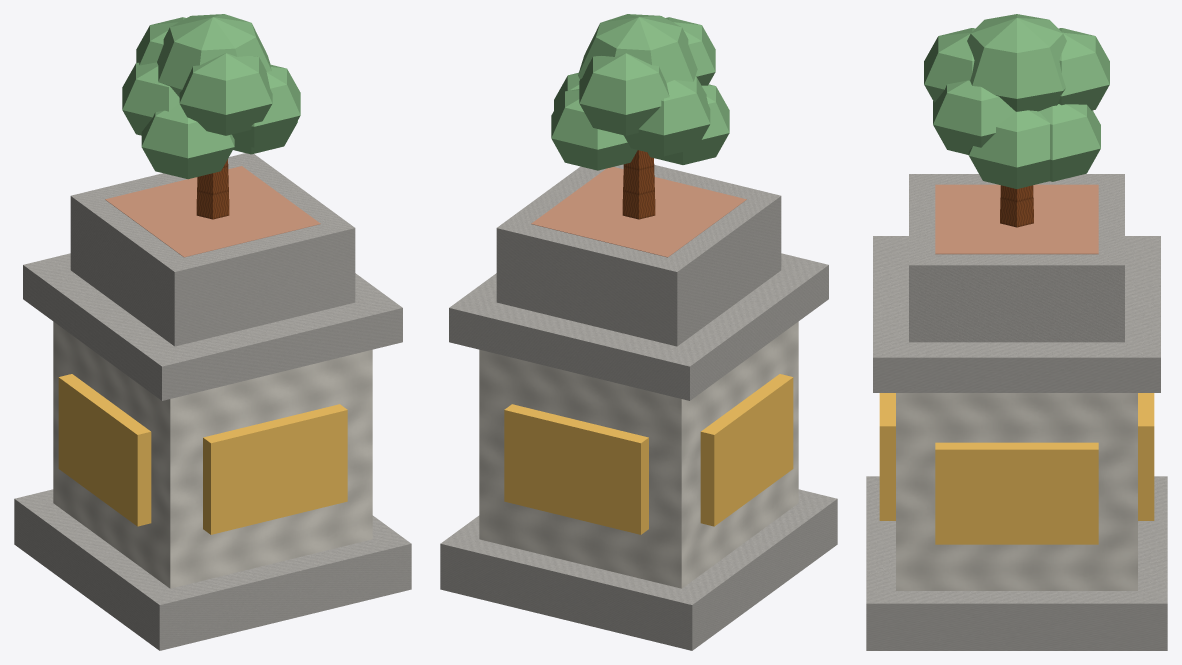
Rendered from indian-bazaar-street-and-temple-tulsi-planter-809b2ed0__36544.glb.
3 views of the same model, side by side, from view 1: azimuth 30°, elevation 25°; view 2: azimuth 150°, elevation 25°; view 3: azimuth 270°, elevation 25° (orthographic). The views are drawn at different scales.
Parts seen in each view (by area): view 1: tulsi-planter-stone, tulsi-planter-plaster, tulsi-planter-saffron, tulsi-planter-leaf, tulsi-planter-terracotta, tulsi-planter-timber; view 2: tulsi-planter-stone, tulsi-planter-plaster, tulsi-planter-saffron, tulsi-planter-leaf, tulsi-planter-terracotta, tulsi-planter-timber; view 3: tulsi-planter-stone, tulsi-planter-plaster, tulsi-planter-leaf, tulsi-planter-saffron, tulsi-planter-terracotta, tulsi-planter-timber.
Boxes of the visible parts, x1=… form: tulsi-planter-stone: x1=14, y1=153, x2=411, y2=650; tulsi-planter-plaster: x1=53, y1=321, x2=372, y2=588; tulsi-planter-saffron: x1=58, y1=374, x2=347, y2=534; tulsi-planter-leaf: x1=122, y1=14, x2=300, y2=179; tulsi-planter-terracotta: x1=105, y1=166, x2=320, y2=257; tulsi-planter-timber: x1=196, y1=159, x2=229, y2=219; tulsi-planter-stone: x1=440, y1=164, x2=837, y2=650; tulsi-planter-plaster: x1=479, y1=321, x2=798, y2=588; tulsi-planter-saffron: x1=504, y1=374, x2=793, y2=534; tulsi-planter-leaf: x1=551, y1=14, x2=729, y2=170; tulsi-planter-terracotta: x1=531, y1=167, x2=746, y2=257; tulsi-planter-timber: x1=622, y1=150, x2=655, y2=219; tulsi-planter-stone: x1=866, y1=174, x2=1167, y2=650; tulsi-planter-plaster: x1=896, y1=393, x2=1137, y2=590; tulsi-planter-leaf: x1=924, y1=14, x2=1109, y2=188; tulsi-planter-saffron: x1=879, y1=393, x2=1154, y2=544; tulsi-planter-terracotta: x1=935, y1=184, x2=1098, y2=254; tulsi-planter-timber: x1=1000, y1=185, x2=1033, y2=227.
Size of the model in its own units: 0.92 by 1.92 by 0.92.
Materials: 6 (3 with a texture image).
